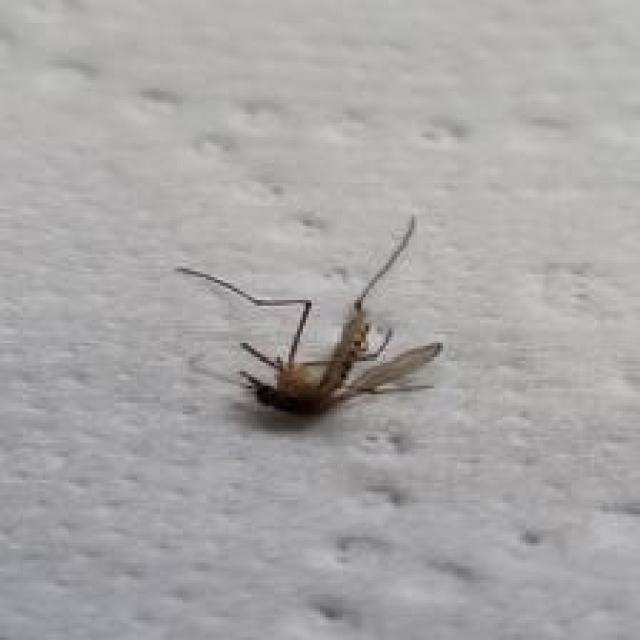Culex: (173, 213, 444, 418)
